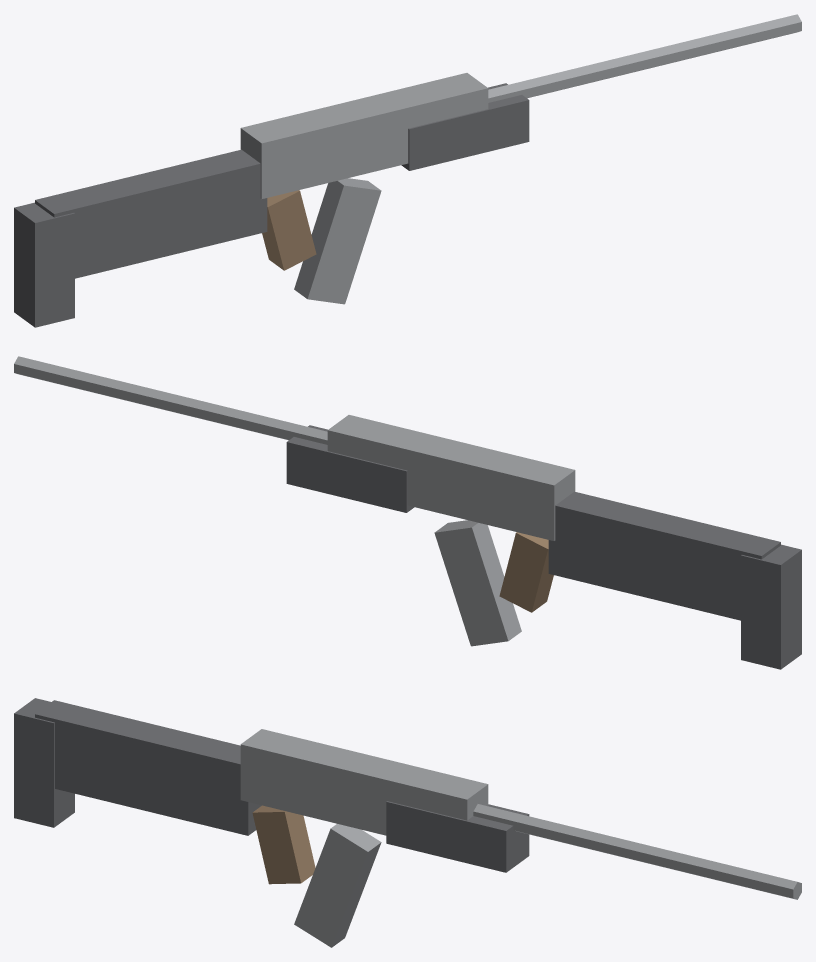
Rendered from held_weapon_an94.glb.
3 views of the same model, one above another, from view 1: azimuth 30°, elevation 25°; view 2: azimuth 150°, elevation 25°; view 3: azimuth 330°, elevation 25° (orthographic).
Visible parts, largest first — view 1: held_weapon_an94; view 2: held_weapon_an94; view 3: held_weapon_an94.
Boxes of the visible parts, x1,y1,x2,y2 form: held_weapon_an94: (14,14,801,327); held_weapon_an94: (14,356,801,669); held_weapon_an94: (14,698,801,947).
Size of the model in its own units: 1.16 by 0.2654 by 0.06.
